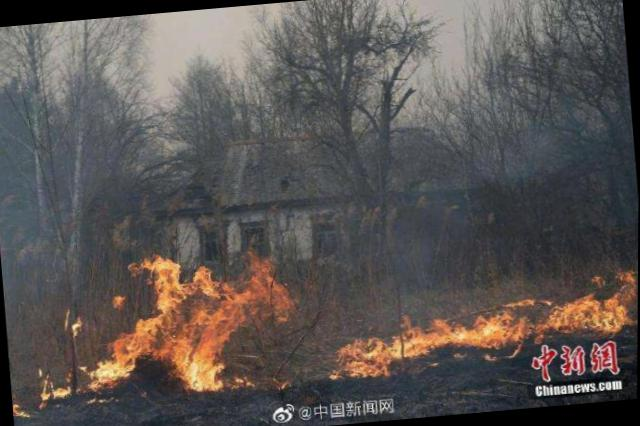fire: (41, 242, 303, 399), (331, 278, 632, 375)
